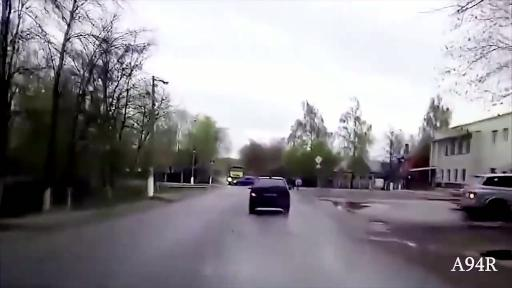Accident: (172, 130, 422, 256), (192, 107, 297, 187)
